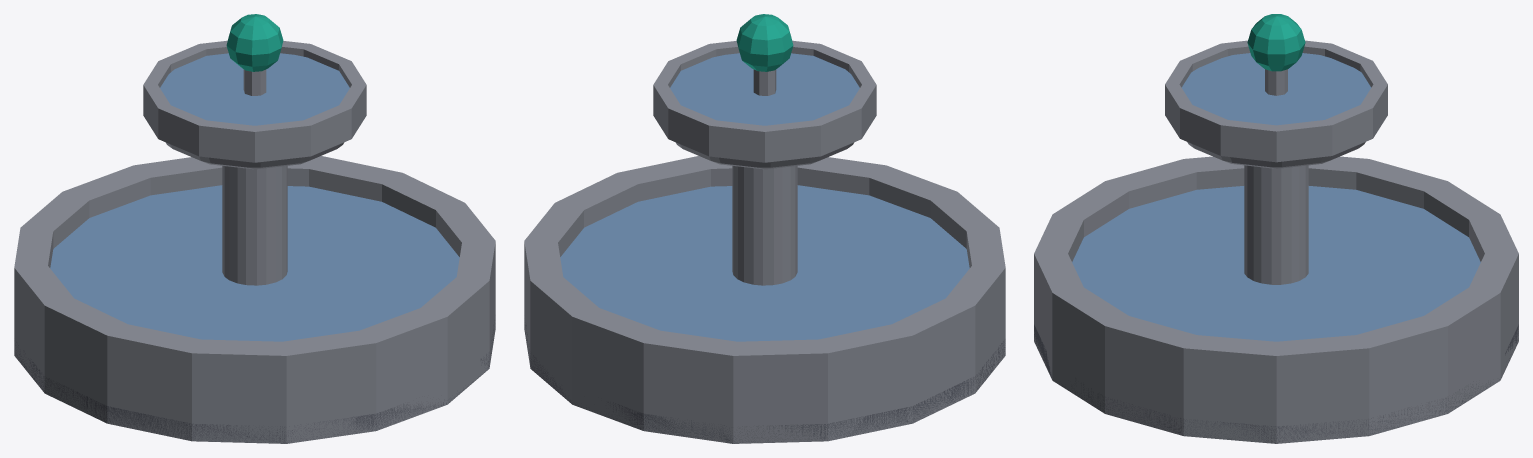
File: CatCafe_Park_Fountain.glb
3 views of the same model, side by side, from view 1: azimuth 30°, elevation 25°; view 2: azimuth 150°, elevation 25°; view 3: azimuth 270°, elevation 25° (orthographic).
Visible parts, largest first — view 1: CatCafe_Park_Fountain_Basin, CatCafe_Park_Fountain_Water; view 2: CatCafe_Park_Fountain_Basin, CatCafe_Park_Fountain_Water; view 3: CatCafe_Park_Fountain_Basin, CatCafe_Park_Fountain_Water.
Part boxes in pixels (left/top/right/bottom): CatCafe_Park_Fountain_Basin: left=14, top=14, right=495, bottom=443; CatCafe_Park_Fountain_Water: left=50, top=53, right=459, bottom=341; CatCafe_Park_Fountain_Basin: left=524, top=14, right=1005, bottom=443; CatCafe_Park_Fountain_Water: left=560, top=53, right=969, bottom=341; CatCafe_Park_Fountain_Basin: left=1034, top=14, right=1518, bottom=443; CatCafe_Park_Fountain_Water: left=1072, top=53, right=1480, bottom=341.
Size of the model in its own units: 5 by 3.7 by 5.
Materials: 1 (1 with a texture image).
